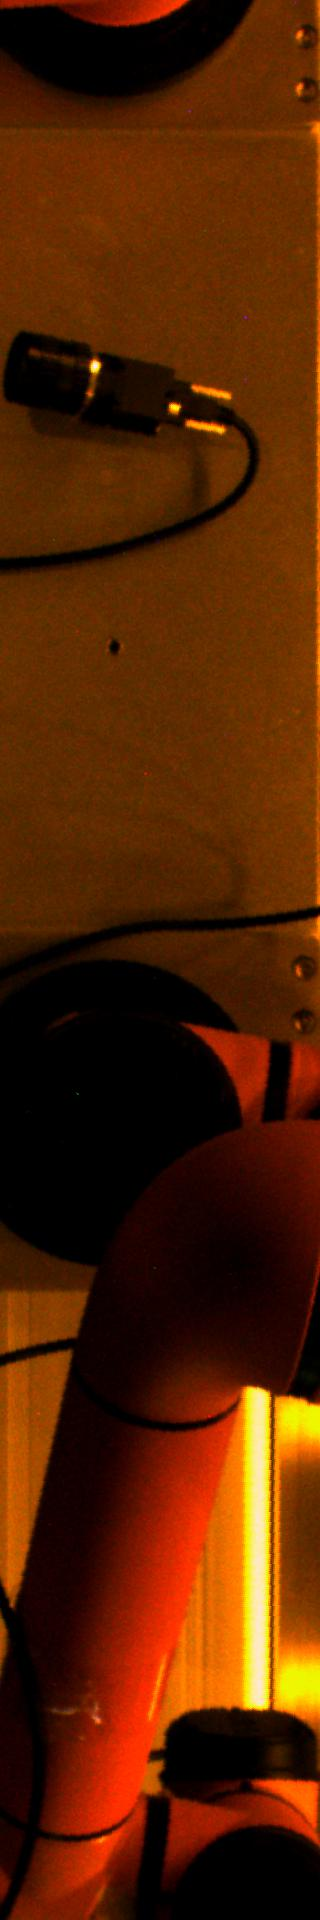keyPoint_2: (98, 633, 128, 662)
